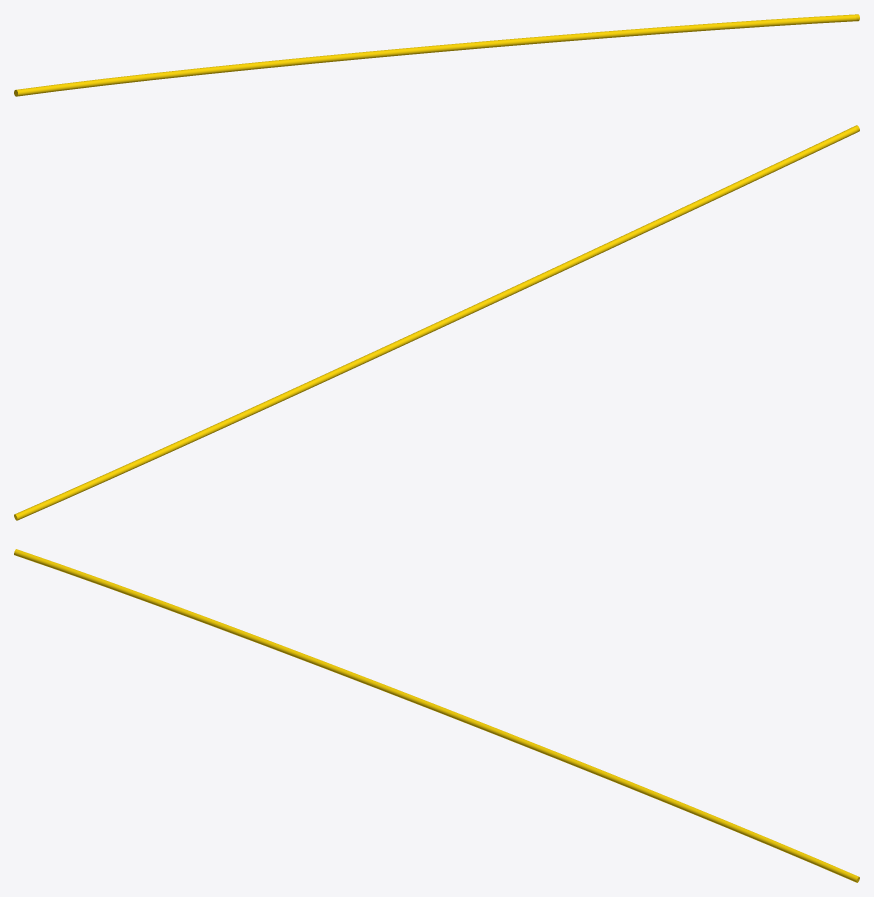
The model's file is Event_420604493_track_6.fbx.
The picture shows the model from 3 angles, top to bottom: view 1: azimuth 30°, elevation 25°; view 2: azimuth 210°, elevation 25°; view 3: azimuth 330°, elevation 25°; orthographic projection. The views are drawn at different scales.
Parts seen in each view (by area): view 1: Model; view 2: Model; view 3: Model.
Boxes of the visible parts, bbox=[...] form: Model: bbox=[14, 14, 859, 96]; Model: bbox=[14, 125, 859, 520]; Model: bbox=[14, 549, 859, 882].
Bounding box in the file's own units: 5.82 × 1.04 × 0.3584.
